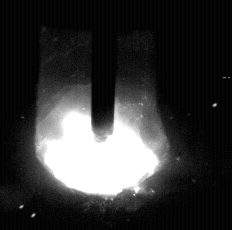arame: (91, 0, 116, 143)
poca: (34, 0, 169, 230)
